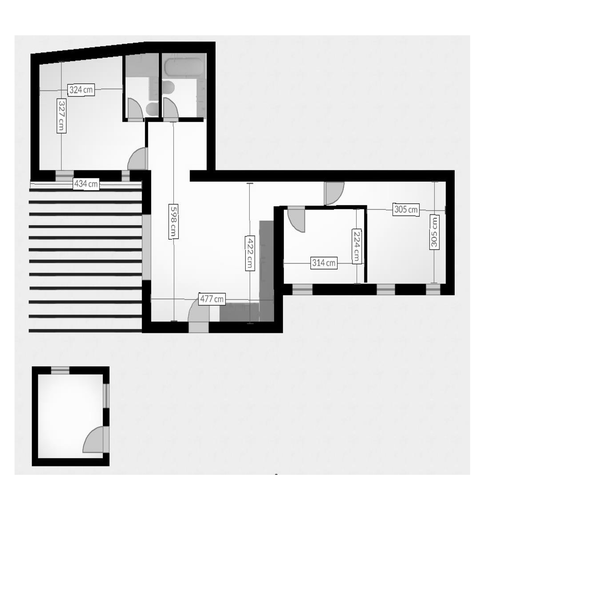door: (185, 288, 214, 325), (123, 142, 148, 172), (126, 89, 148, 122), (289, 200, 310, 234), (160, 91, 180, 122), (322, 180, 344, 206)
room: (33, 27, 220, 184), (138, 169, 282, 341), (271, 174, 462, 301), (19, 360, 117, 472)
wall: (191, 166, 454, 185), (26, 53, 50, 187), (200, 41, 223, 169), (18, 39, 126, 63), (440, 174, 459, 301), (126, 33, 214, 59), (271, 202, 286, 339), (28, 359, 47, 463), (29, 454, 114, 474), (71, 165, 151, 184), (359, 212, 377, 287), (211, 318, 278, 335), (153, 48, 167, 123), (311, 281, 378, 296), (142, 318, 190, 338), (117, 47, 129, 124), (135, 169, 152, 214), (73, 366, 116, 383), (142, 277, 154, 334), (307, 205, 369, 216), (389, 280, 427, 297), (177, 114, 206, 126)
window: (291, 275, 316, 303), (374, 275, 396, 303), (99, 376, 112, 408), (427, 285, 441, 301), (53, 364, 70, 371)
